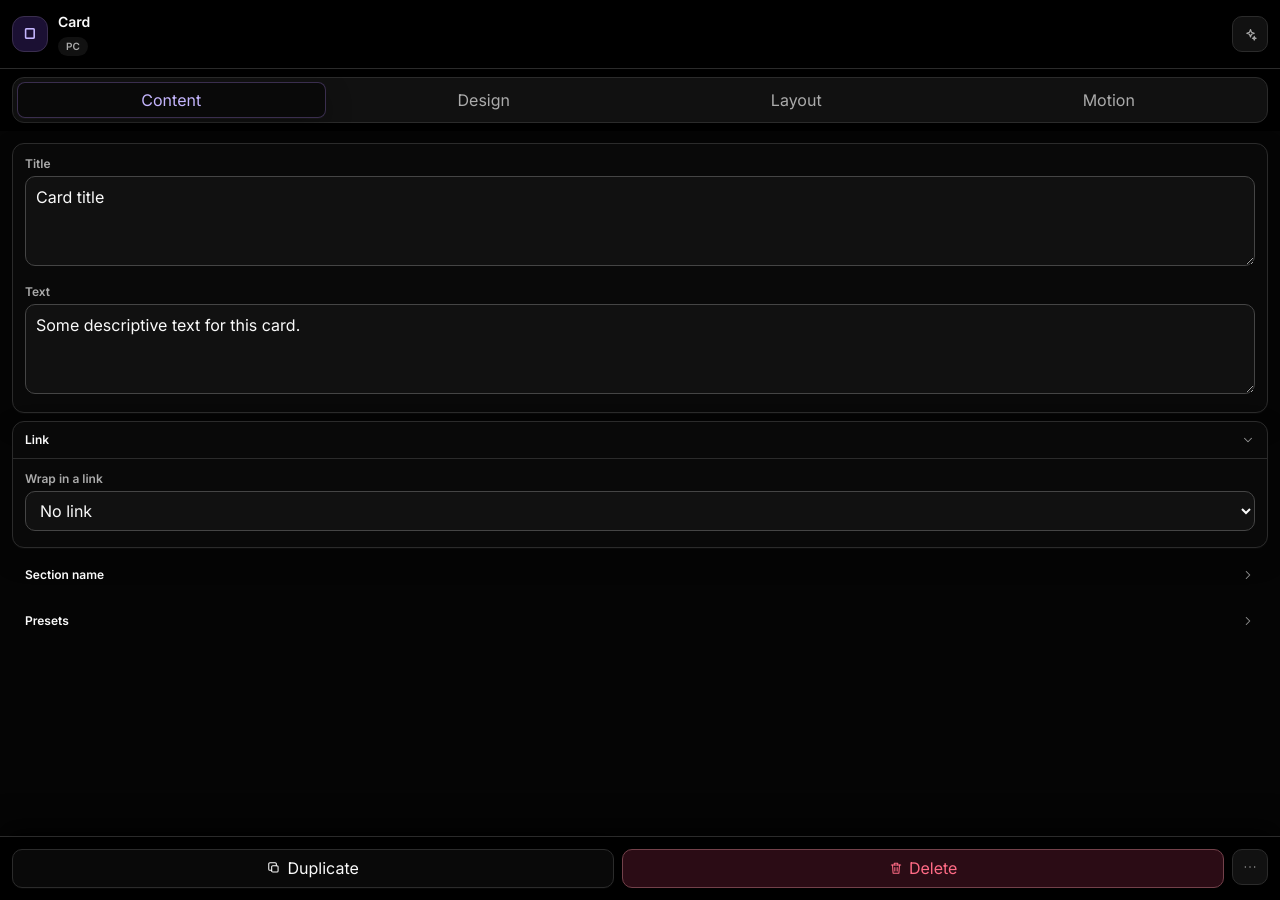
Test: Properties panel tabs › keeps the selected-component AI editor collapsed until requested
Expected: the field with placeholder "e.g. make it a rounded red CTA" is not shown
What coordinates should you click on to do the following:
click the button named "Ask AI to edit this"
I would click on:
 (1250, 34)
Its box is [1232, 16, 1268, 52].
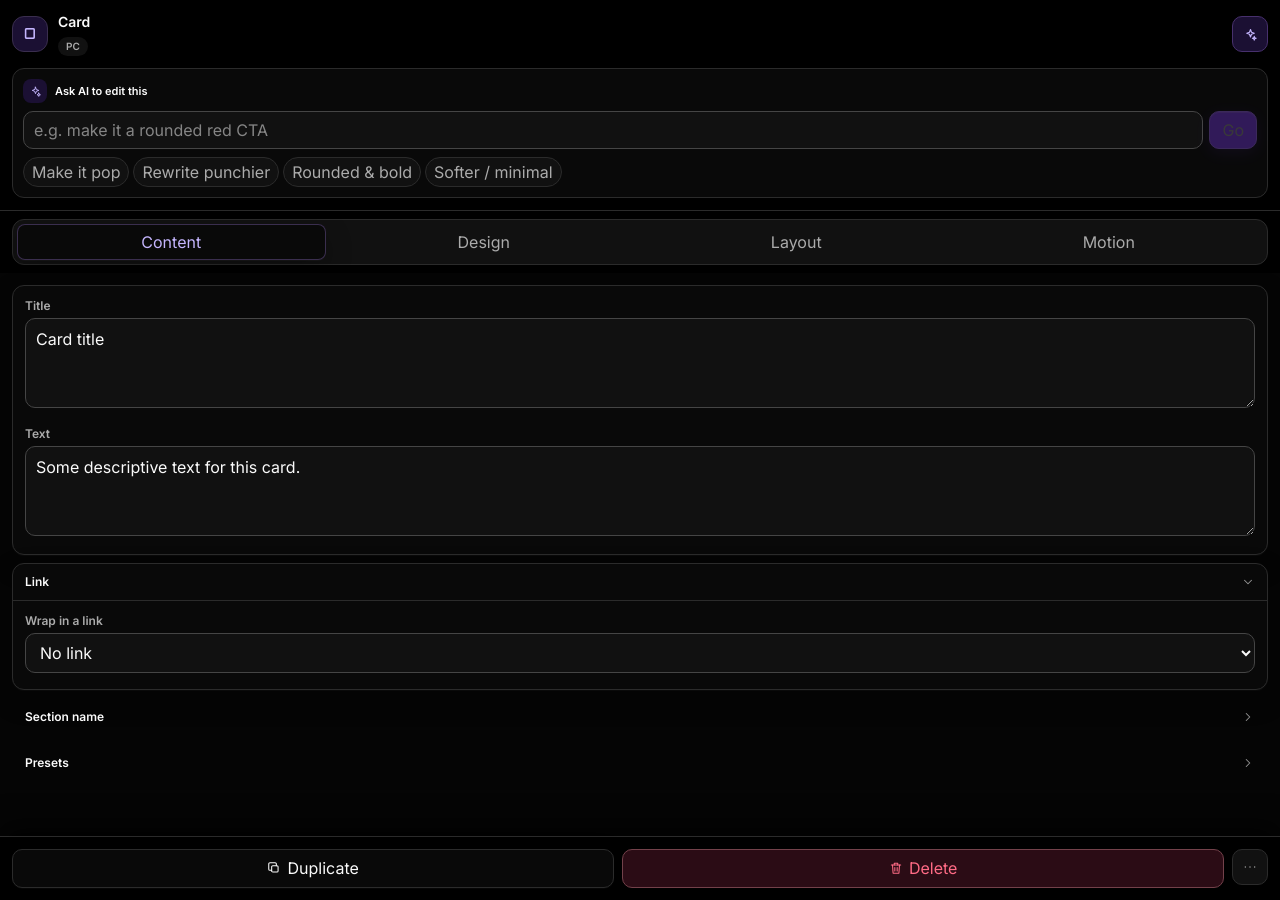
Now the button named "Ask AI to edit this" is expanded, box [1232, 16, 1268, 52]
Now the field with placeholder "e.g. make it a rounded red CTA" is shown, box [23, 111, 1204, 149]
